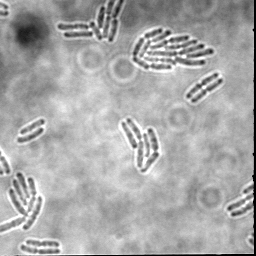Dividing: (184, 70, 220, 100), (189, 77, 224, 104), (226, 192, 254, 212), (19, 244, 61, 255), (230, 201, 254, 218), (25, 238, 60, 249)
Microcolony: (130, 27, 215, 72), (57, 0, 127, 42), (1, 172, 43, 234), (120, 117, 160, 174)
Rod: (15, 127, 45, 144), (19, 117, 46, 135)
